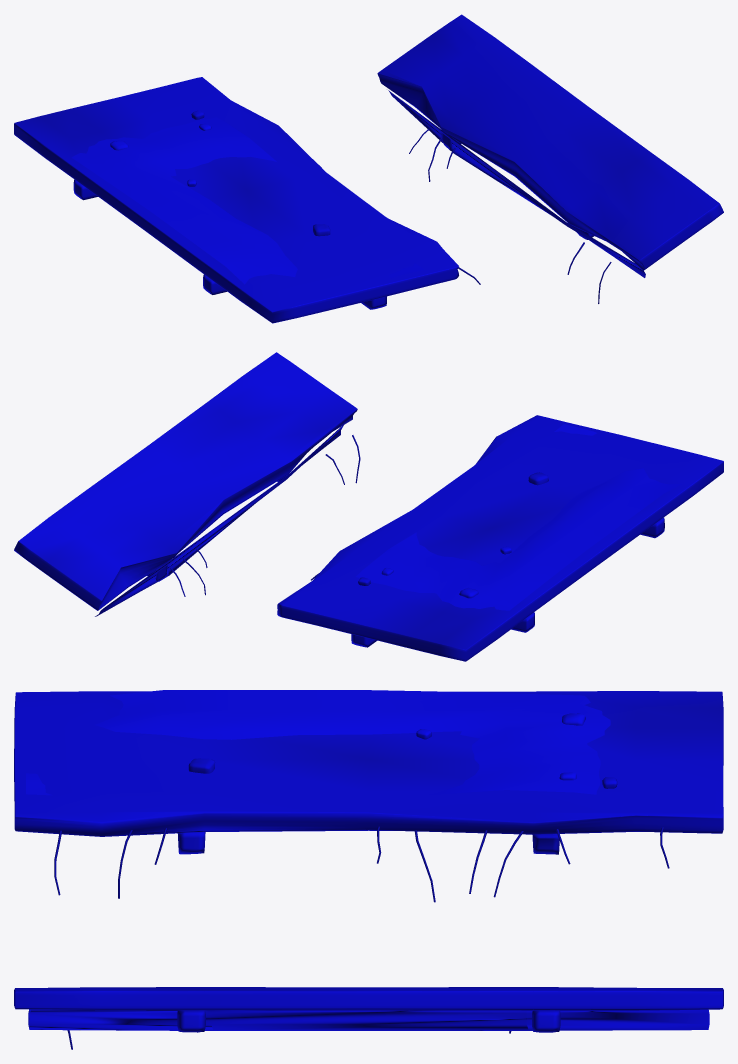
File: floor_slab_broken.glb
3 renders of one model, top to bottom at view 1: azimuth 30°, elevation 25°; view 2: azimuth 150°, elevation 25°; view 3: azimuth 270°, elevation 25°, orthographic. The views are drawn at different scales.
Parts seen in each view (by area): view 1: floor_slab_broken; view 2: floor_slab_broken; view 3: floor_slab_broken.
Part boxes in pixels (box(x1,y1,x2,y2)): floor_slab_broken: box(14, 14, 723, 323); floor_slab_broken: box(14, 352, 723, 661); floor_slab_broken: box(14, 690, 723, 1049).
Size of what is drawn, in the model's own units: 6.14 by 1.27 by 6.01.
